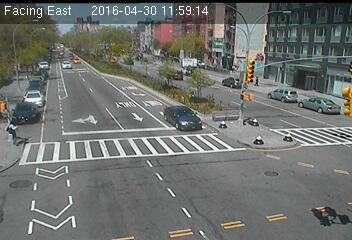neg: (40, 61, 73, 105), (183, 153, 215, 196), (284, 136, 311, 171), (233, 56, 257, 88), (81, 114, 105, 145), (74, 178, 96, 207), (297, 88, 318, 115), (313, 197, 333, 223), (116, 154, 135, 180), (208, 36, 227, 61), (159, 36, 177, 60), (181, 104, 199, 128), (127, 16, 145, 39), (72, 12, 89, 35), (251, 132, 266, 151)
pos: (1, 118, 20, 144)
